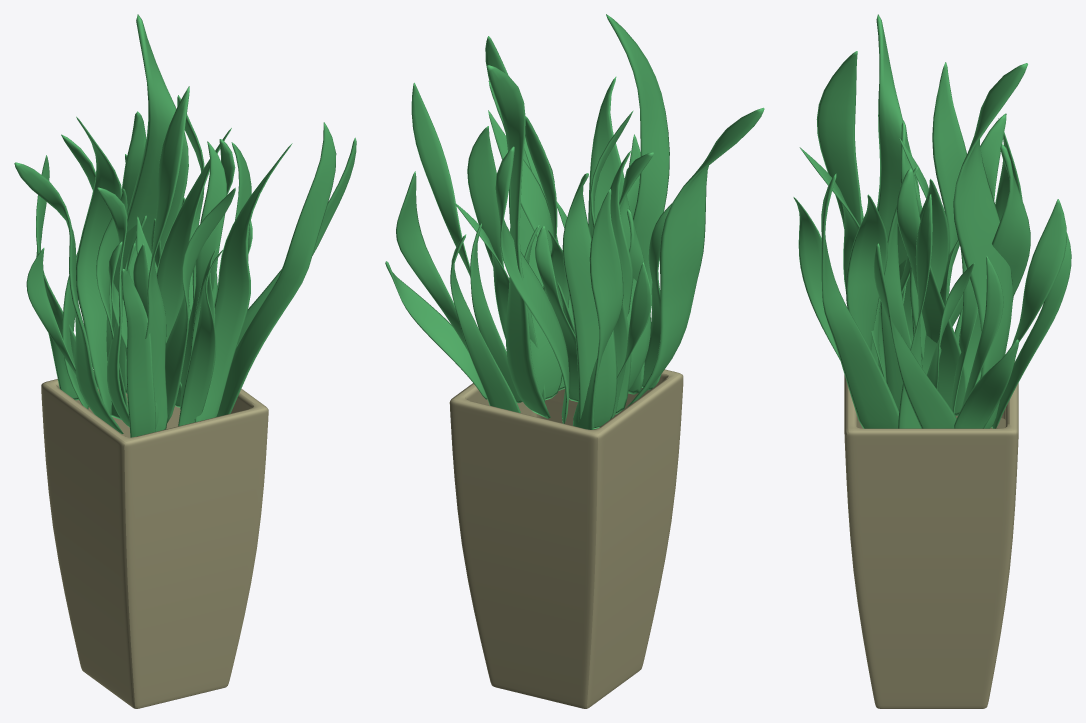
The model's file is Pflanze 1.fbx.
The picture shows the model from 3 angles, left to right: view 1: azimuth 30°, elevation 25°; view 2: azimuth 150°, elevation 25°; view 3: azimuth 270°, elevation 25°; orthographic projection. The views are drawn at different scales.
Visible parts, largest first — view 1: house_plant:null_2; view 2: house_plant:null_2; view 3: house_plant:null_2.
Part boxes in pixels (x1,y1,x2,y2): house_plant:null_2: (14, 14, 356, 708); house_plant:null_2: (385, 14, 764, 708); house_plant:null_2: (793, 14, 1071, 708).
Bounding box in the file's own units: 3.94 × 6.86 × 2.71.
